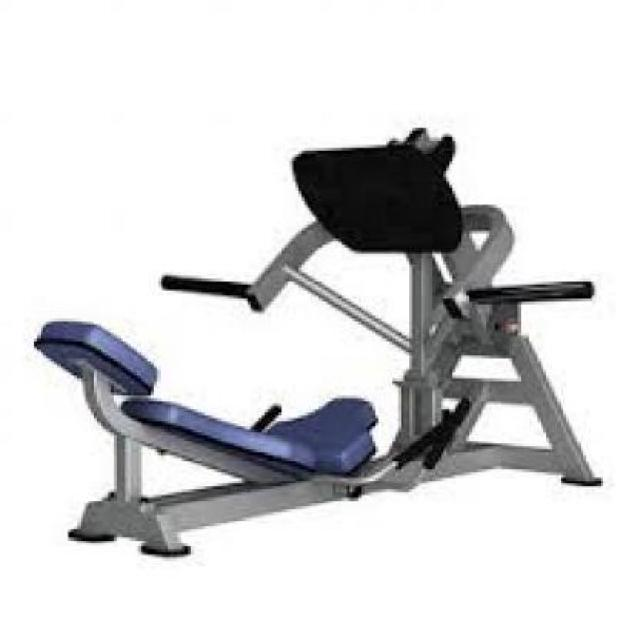leg press: (34, 120, 618, 565)
